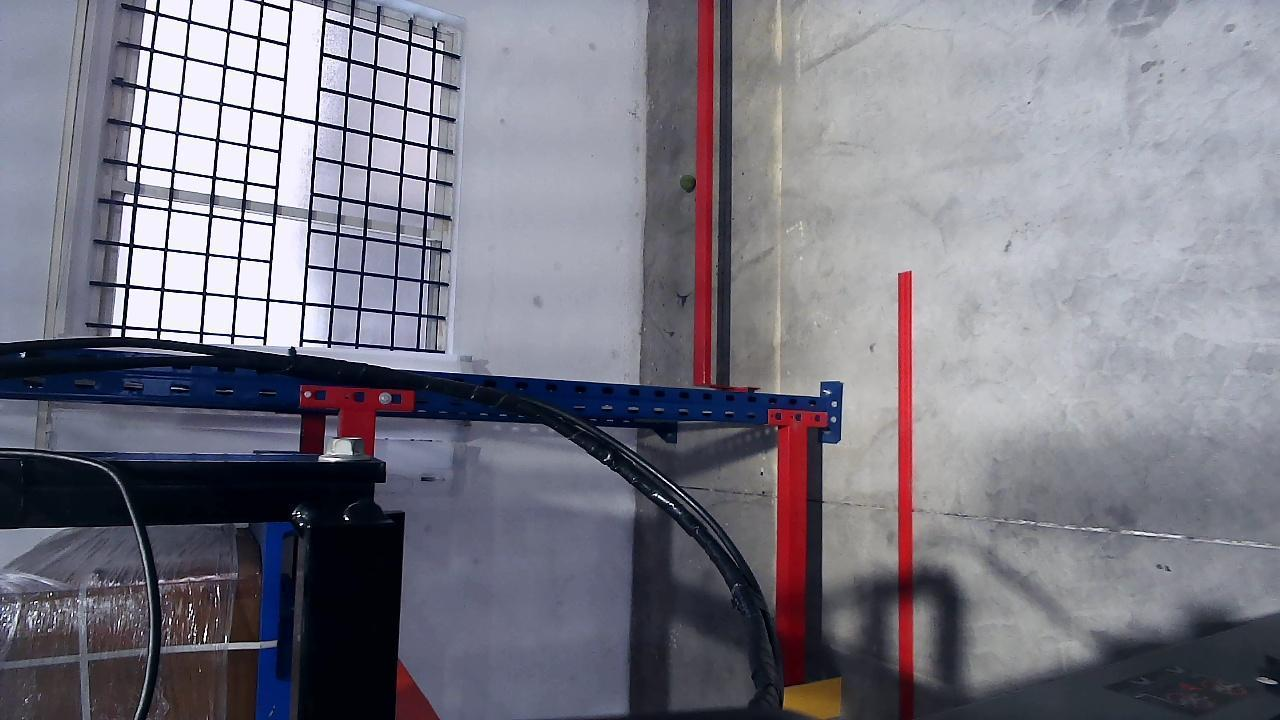red_line: (895, 270, 913, 687)
